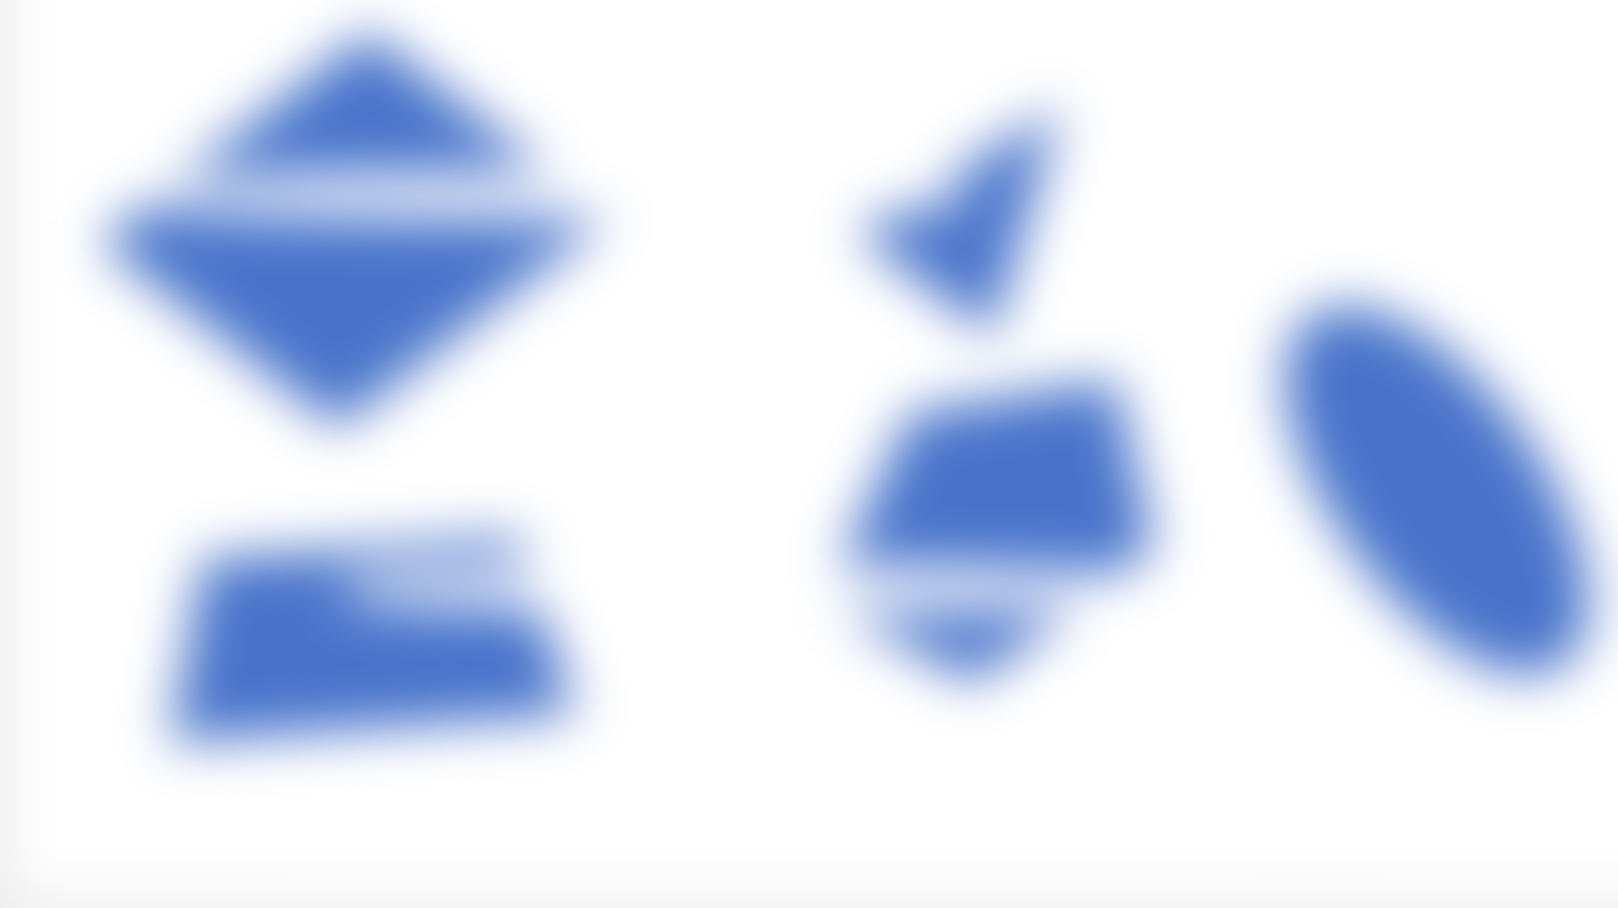circle: (1210, 227, 1618, 732)
parallelogram: (94, 14, 607, 447)
pentagon: (833, 370, 1173, 716)
trapezium: (140, 503, 590, 764)
triangle: (836, 79, 1088, 322)
